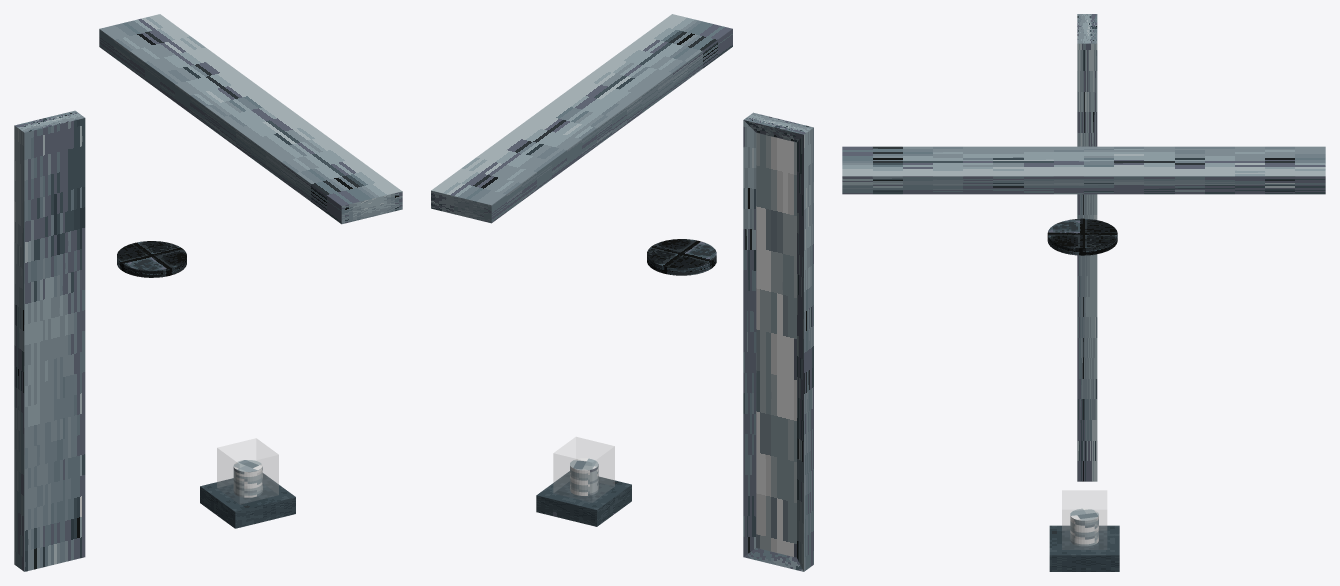
File: Lighting.fbx
3 renders of one model, left to right at view 1: azimuth 30°, elevation 25°; view 2: azimuth 150°, elevation 25°; view 3: azimuth 270°, elevation 25°, orthographic.
Visible parts, largest first — view 1: Rectangle Light Vertical, Rectangle Light Ceiling, Gumball Alarm Light, Circle Light; view 2: Rectangle Light Vertical, Rectangle Light Ceiling, Gumball Alarm Light, Circle Light; view 3: Rectangle Light Ceiling, Rectangle Light Vertical, Gumball Alarm Light, Circle Light.
Part boxes in pixels (x1,y1,x2,y2): Rectangle Light Vertical: (14, 110, 85, 571); Rectangle Light Ceiling: (99, 14, 402, 224); Gumball Alarm Light: (200, 438, 295, 528); Circle Light: (117, 241, 186, 277); Rectangle Light Vertical: (743, 112, 813, 571); Rectangle Light Ceiling: (431, 14, 732, 223); Gumball Alarm Light: (536, 437, 631, 526); Circle Light: (647, 239, 716, 275); Rectangle Light Ceiling: (842, 146, 1325, 194); Rectangle Light Vertical: (1077, 14, 1097, 481); Gumball Alarm Light: (1049, 490, 1119, 571); Circle Light: (1047, 218, 1117, 255).
Size of the model in its own units: 288 by 465 by 465.
Materials: 5 (4 with a texture image).
